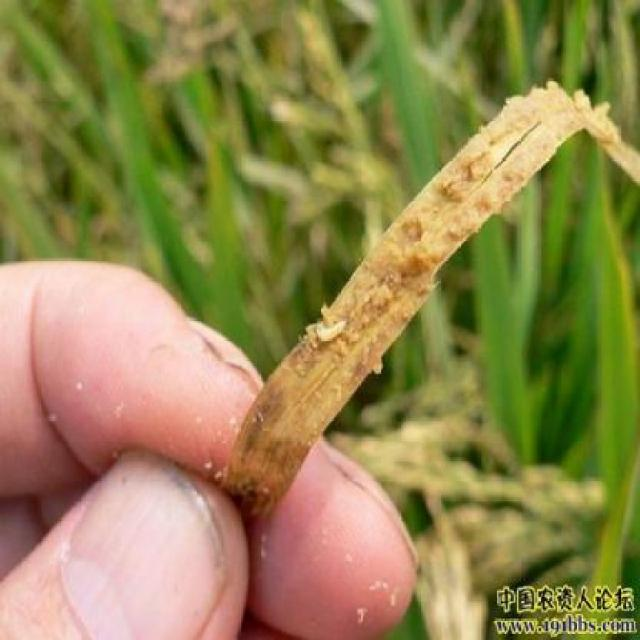whorl-maggot: (313, 312, 358, 351)
